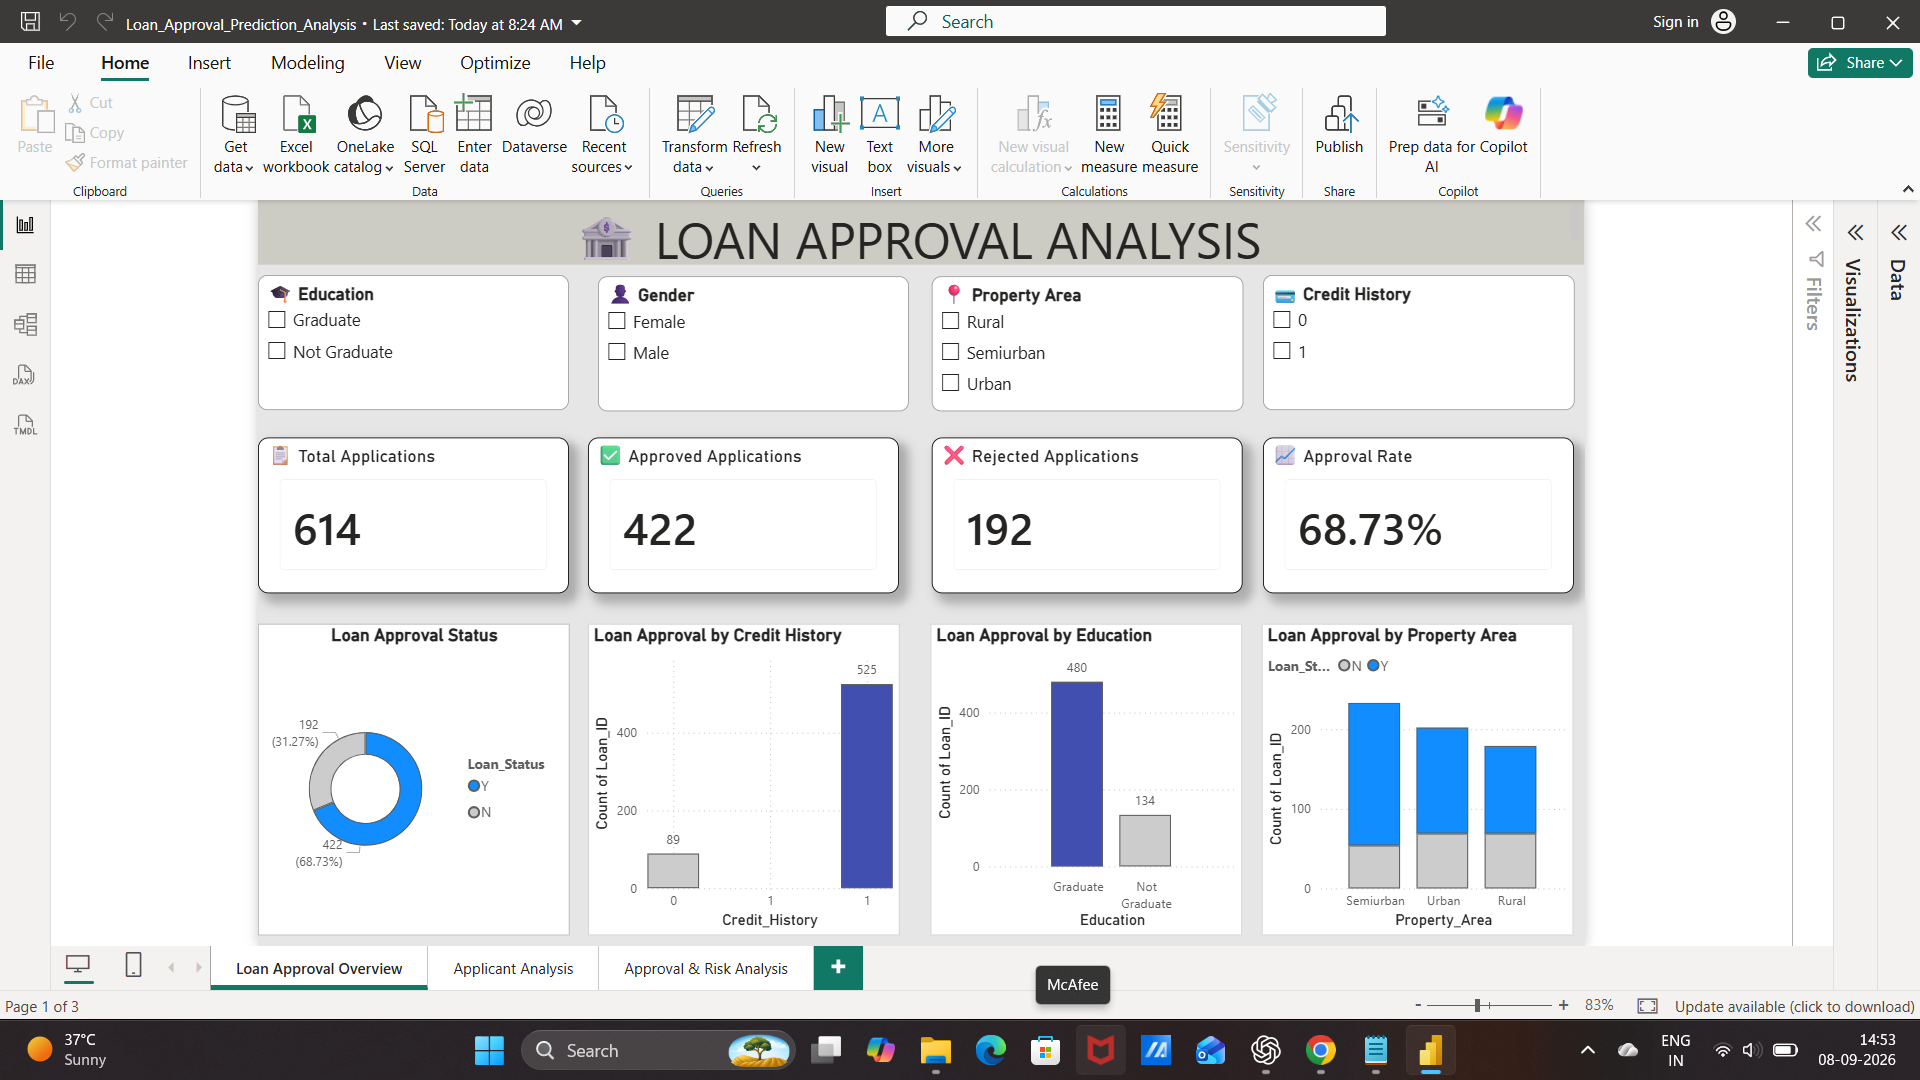

Layout of this report page (visuals, bound fields, positions):
{"tool":"powerbi","page":{"name":"Loan Approval Overview","canvas":[1280,720],"ordinal":0},"visuals":[{"type":"cardVisual","title":"📋 Total Applications","fields":{"Data":["LoanData.Total Applications"]},"box":[0,229.2,300,150],"z":0},{"type":"cardVisual","title":"✅ Approved Applications","fields":{"Data":["LoanData.Approved Applications"]},"box":[318.5,229.2,300,150],"z":1000},{"type":"cardVisual","title":"❌ Rejected Applications","fields":{"Data":["LoanData.Rejected Applications"]},"box":[650.3,229.2,300,150],"z":2000},{"type":"cardVisual","title":"📈 Approval Rate","fields":{"Data":["LoanData.Approval Rate %"]},"box":[970,229.2,300,150],"z":3000},{"type":"listSlicer","title":"🎓 Education","fields":{"Values":["LoanData.Education"]},"box":[0,72.4,300,130],"z":4000},{"type":"listSlicer","title":"👤 Gender","fields":{"Values":["LoanData.Gender"]},"box":[328.2,73.6,300,130],"z":5000},{"type":"listSlicer","title":"📍 Property Area","fields":{"Values":["LoanData.Property_Area"]},"box":[650.3,73.6,300.4,130.3],"z":6000},{"type":"listSlicer","title":"💳 Credit History","fields":{"Values":["LoanData.Credit_History"]},"box":[970,72.4,300.4,130.3],"z":7000},{"type":"textbox","box":[0,0,1280.3,62.4],"z":8000},{"type":"donutChart","title":"Loan Approval Status","fields":{"Category":["LoanData.Loan_Status"],"Y":["CountNonNull(LoanData.Loan_ID)"]},"box":[0,409,300.4,300.4],"z":9000},{"type":"clusteredColumnChart","title":"Loan Approval by Credit History","fields":{"Category":["LoanData.Credit_History"],"Y":["CountNonNull(LoanData.Loan_ID)"]},"box":[318.5,409,300.4,300.4],"z":10000},{"type":"clusteredColumnChart","title":"Loan Approval by Education","fields":{"Category":["LoanData.Education"],"Y":["CountNonNull(LoanData.Loan_ID)"]},"box":[649.1,409,300.4,300.4],"z":11000},{"type":"columnChart","title":"Loan Approval by Property Area","fields":{"Category":["LoanData.Property_Area"],"Y":["CountNonNull(LoanData.Loan_ID)"],"Series":["LoanData.Loan_Status"]},"box":[968.8,409,300.4,300.4],"z":12000}]}

Visuals, with their boxes on the page's 1280x720 design canvas (x1, y1, x2, y2). These are canvas units, not pixel positions in the 1920x1080 screenshot, which may show the page scaled, cropped or inside an application window:
"📋 Total Applications" cardVisual: region(0, 229, 300, 379)
"✅ Approved Applications" cardVisual: region(318, 229, 618, 379)
"❌ Rejected Applications" cardVisual: region(650, 229, 950, 379)
"📈 Approval Rate" cardVisual: region(970, 229, 1270, 379)
"🎓 Education" listSlicer: region(0, 72, 300, 202)
"👤 Gender" listSlicer: region(328, 74, 628, 204)
"📍 Property Area" listSlicer: region(650, 74, 951, 204)
"💳 Credit History" listSlicer: region(970, 72, 1270, 203)
textbox: region(0, 0, 1280, 62)
"Loan Approval Status" donutChart: region(0, 409, 300, 709)
"Loan Approval by Credit History" clusteredColumnChart: region(318, 409, 619, 709)
"Loan Approval by Education" clusteredColumnChart: region(649, 409, 950, 709)
"Loan Approval by Property Area" columnChart: region(969, 409, 1269, 709)
